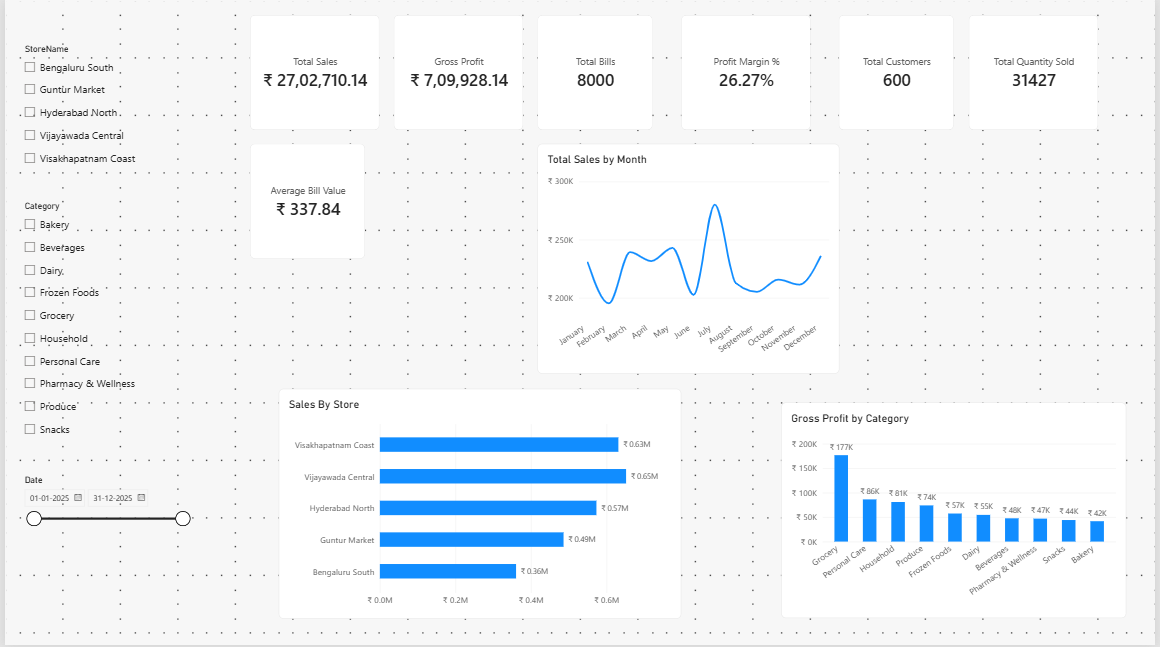

The page's visual inventory and layout, read from the dashboard file:
{"tool":"powerbi","page":{"name":"Executive Overview","canvas":[1920,1080],"ordinal":0},"visuals":[{"type":"cardVisual","fields":{"Data":["Customers.Total Sales","Customers.Total Sales"]},"box":[408,24,216,192],"z":0},{"type":"cardVisual","fields":{"Data":["Customers.Gross Profit"]},"box":[648,24,216,192],"z":1000},{"type":"cardVisual","fields":{"Data":["Customers.Total Bills"]},"box":[888,24,192,192],"z":2000},{"type":"cardVisual","fields":{"Data":["Customers.Profit Margin %"]},"box":[1128,24,216,192],"z":3000},{"type":"cardVisual","fields":{"Data":["Customers.Total Customers"]},"box":[1392,24,192,192],"z":4000},{"type":"cardVisual","fields":{"Data":["Customers.Total Quantity Sold"]},"box":[1608,24,216,192],"z":5000},{"type":"cardVisual","fields":{"Data":["Customers.Average Bill Value"]},"box":[408,240,192,192],"z":6000},{"type":"lineChart","fields":{"Category":["DateTable.Month"],"Y":["Customers.Total Sales"]},"box":[888,240,504,384],"z":7000},{"type":"clusteredBarChart","title":"Sales By Store","fields":{"Category":["Stores.StoreName"],"Y":["Customers.Total Sales"]},"box":[456,648,672,384],"z":8000},{"type":"clusteredColumnChart","fields":{"Category":["Products.Category"],"Y":["Customers.Gross Profit"]},"box":[1296,672,576,360],"z":9000},{"type":"slicer","fields":{"Values":["Stores.StoreName"]},"box":[24,72,216,312],"z":10000},{"type":"slicer","fields":{"Values":["Products.Category"]},"box":[24,336,216,432],"z":11000},{"type":"slicer","fields":{"Values":["DateTable.Date"]},"box":[24,792,288,240],"z":12000}]}

Visuals, with their boxes in screenshot pixels (x1, y1, x2, y2), scaled from the page's 1920x1080 canvas onto the 1160x647 screenshot:
cardVisual - Customers.Total Sales x Customers.Total Sales: [x1=246, y1=14, x2=377, y2=129]
cardVisual - Customers.Gross Profit: [x1=392, y1=14, x2=522, y2=129]
cardVisual - Customers.Total Bills: [x1=536, y1=14, x2=652, y2=129]
cardVisual - Customers.Profit Margin %: [x1=682, y1=14, x2=812, y2=129]
cardVisual - Customers.Total Customers: [x1=841, y1=14, x2=957, y2=129]
cardVisual - Customers.Total Quantity Sold: [x1=971, y1=14, x2=1102, y2=129]
cardVisual - Customers.Average Bill Value: [x1=246, y1=144, x2=362, y2=259]
lineChart - DateTable.Month x Customers.Total Sales: [x1=536, y1=144, x2=841, y2=374]
"Sales By Store" clusteredBarChart: [x1=276, y1=388, x2=682, y2=618]
clusteredColumnChart - Products.Category x Customers.Gross Profit: [x1=783, y1=403, x2=1131, y2=618]
slicer - Stores.StoreName: [x1=14, y1=43, x2=145, y2=230]
slicer - Products.Category: [x1=14, y1=201, x2=145, y2=460]
slicer - DateTable.Date: [x1=14, y1=474, x2=188, y2=618]
